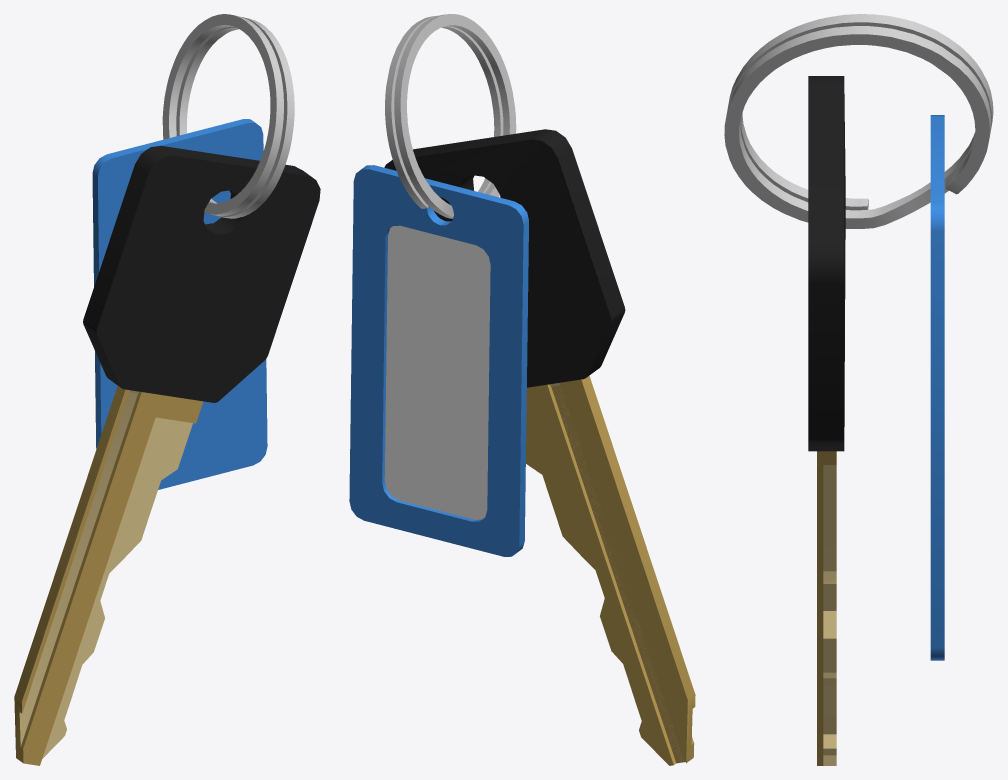
The model's file is Key15_with_tag.fbx.
The picture shows the model from 3 angles, left to right: view 1: azimuth 30°, elevation 25°; view 2: azimuth 150°, elevation 25°; view 3: azimuth 270°, elevation 25°; orthographic projection. The views are drawn at different scales.
Parts seen in each view (by area): view 1: Key15_with_tag.001; view 2: Key15_with_tag.001; view 3: Key15_with_tag.001.
Boxes of the visible parts, <box> form: Key15_with_tag.001: <box>14,14,320,765</box>; Key15_with_tag.001: <box>349,14,695,765</box>; Key15_with_tag.001: <box>724,14,993,765</box>.
Bounding box in the file's own units: 0.5337 × 1.17 × 0.3187.
